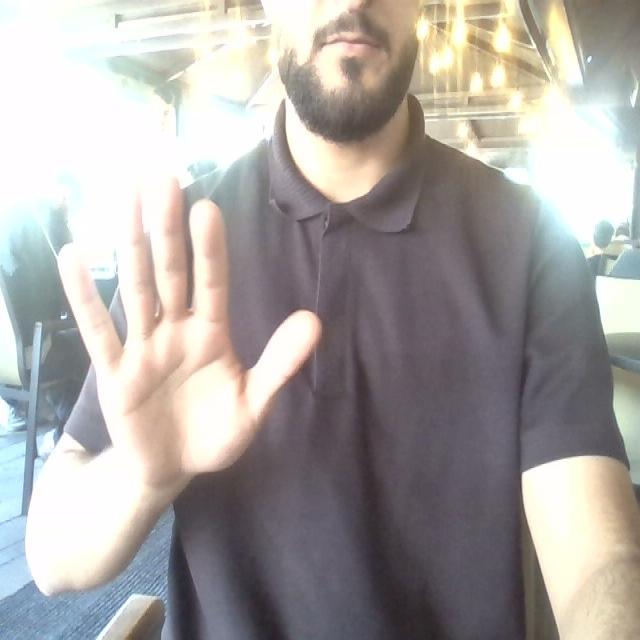Hand: (59, 180, 320, 486)
